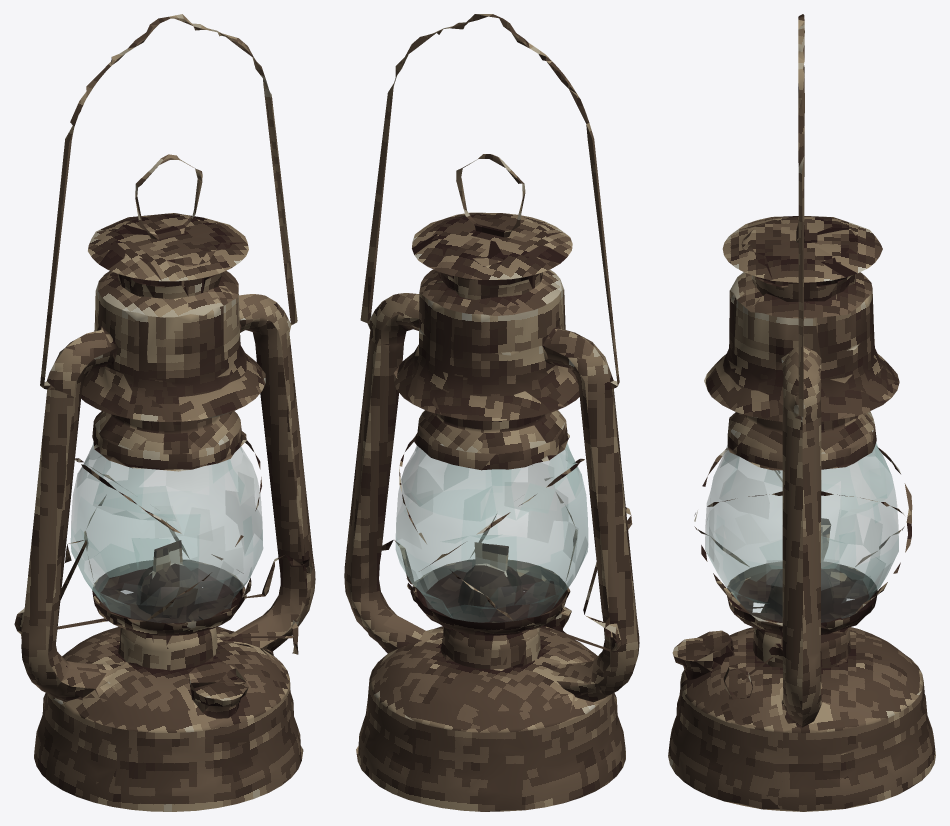
Rendered from Lantern_01.glb.
3 views of the same model, side by side, from view 1: azimuth 30°, elevation 25°; view 2: azimuth 150°, elevation 25°; view 3: azimuth 270°, elevation 25° (orthographic).
Parts seen in each view (by area): view 1: body, glass; view 2: body, glass; view 3: body, glass.
Boxes of the visible parts, box(x1,y1,x2,y2) form: body: box(14, 14, 315, 811); glass: box(70, 442, 263, 623); body: box(344, 14, 639, 811); glass: box(395, 443, 588, 622); body: box(668, 14, 935, 811); glass: box(705, 442, 898, 622).
Size of the model in its own units: 0.1224 by 0.2942 by 0.097.
2 materials, 2 textured.
